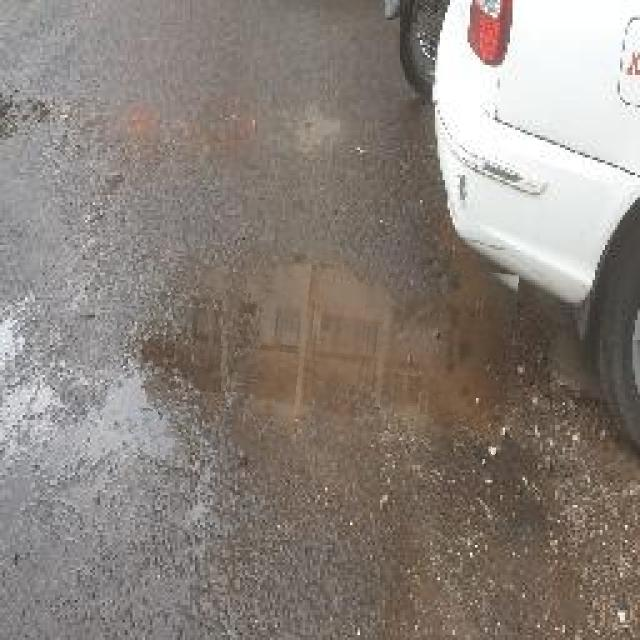puddle: (108, 245, 516, 463)
